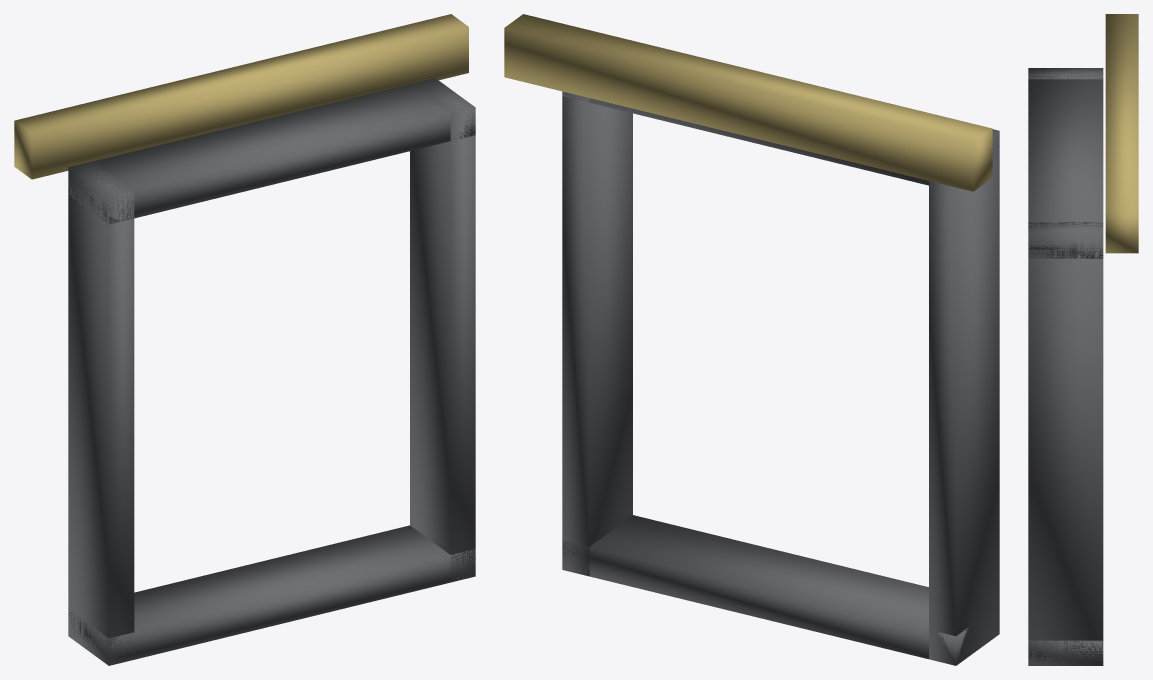
File: egress_window_motel_w72_h90_s72_d16.glb
3 views of the same model, side by side, from view 1: azimuth 30°, elevation 25°; view 2: azimuth 150°, elevation 25°; view 3: azimuth 270°, elevation 25° (orthographic). The views are drawn at different scales.
Visible parts, largest first — view 1: world; view 2: world; view 3: world.
Part boxes in pixels (x1,y1,x2,y2): world: (14, 14, 475, 665); world: (504, 14, 999, 665); world: (1028, 14, 1138, 665).
Bounding box in the file's own units: 0.9952 × 1.11 × 0.235.
